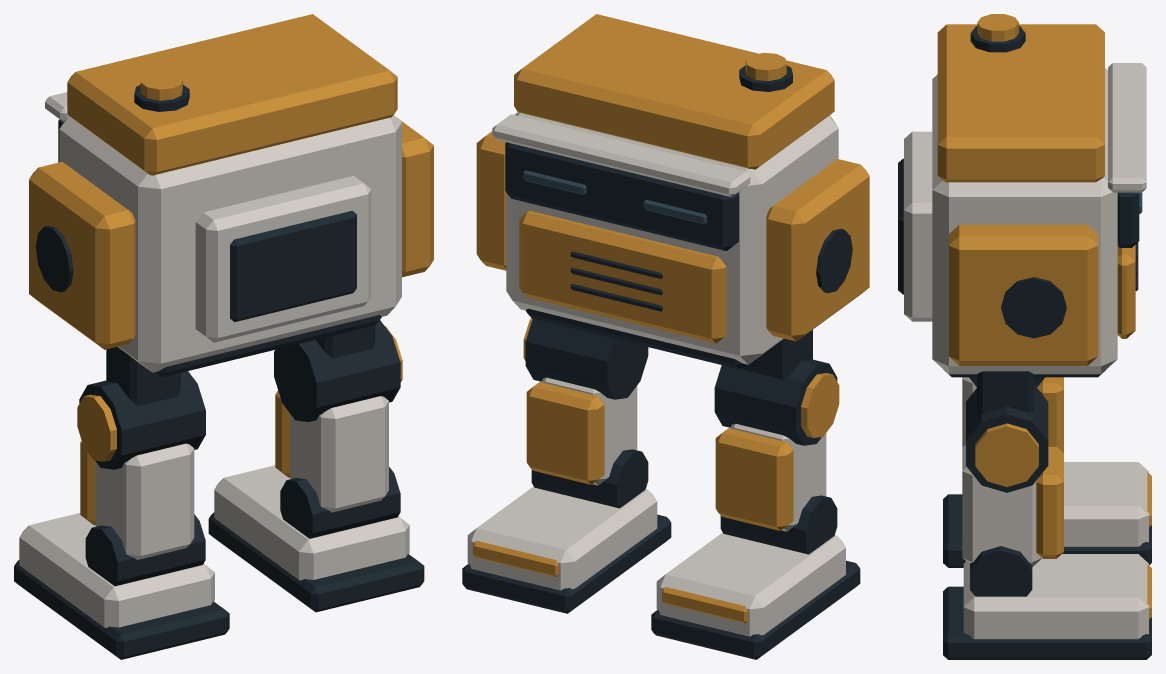
The model's file is sentry-walker.glb.
The picture shows the model from 3 angles, left to right: view 1: azimuth 30°, elevation 25°; view 2: azimuth 150°, elevation 25°; view 3: azimuth 270°, elevation 25°; orthographic projection. The views are drawn at different scales.
Visible parts, largest first — view 1: sentry-walker; view 2: sentry-walker; view 3: sentry-walker.
Boxes of the visible parts, x1=… form: sentry-walker: x1=14, y1=14, x2=433, y2=659; sentry-walker: x1=462, y1=14, x2=869, y2=659; sentry-walker: x1=898, y1=14, x2=1151, y2=659.
Size of the model in its own units: 1.3 by 1.95 by 0.85.
